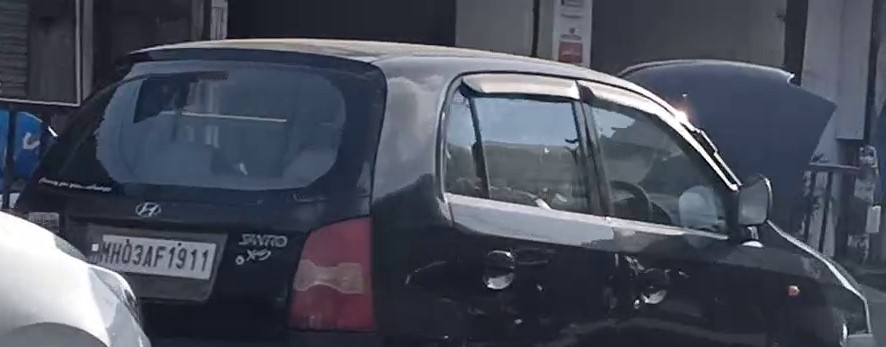MH03AF1911: (98, 233, 218, 279)
